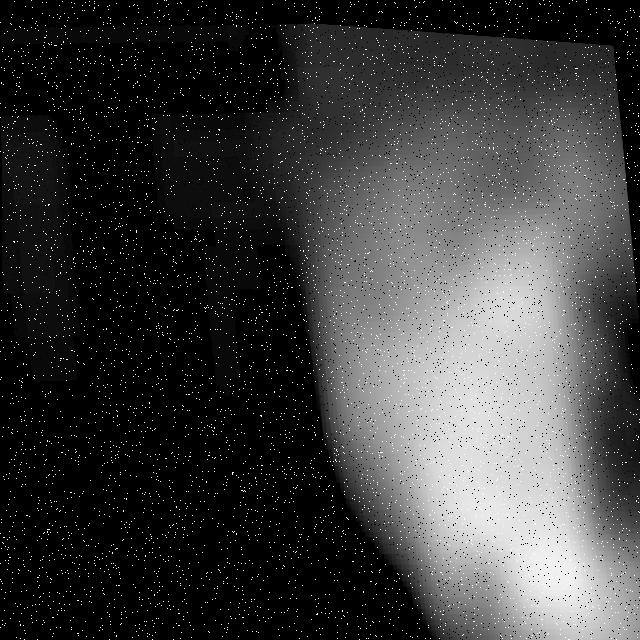person: (281, 84, 640, 640)
